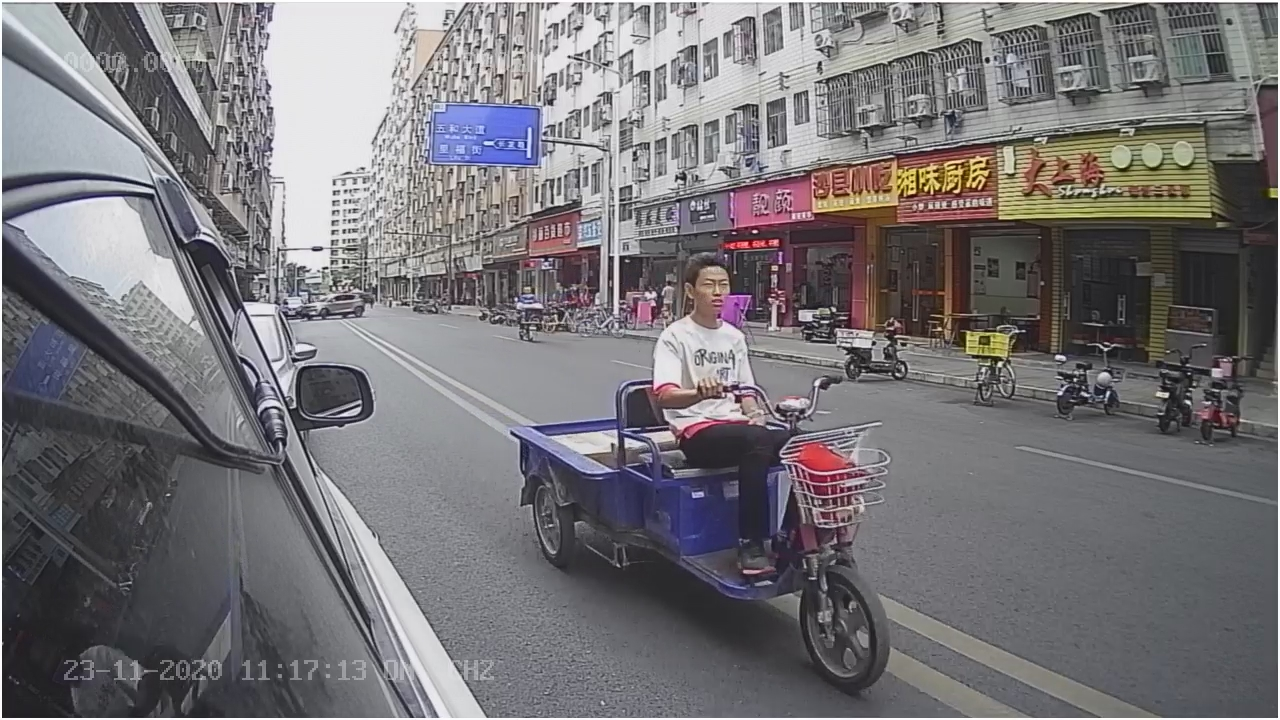person: (646, 252, 767, 384)
